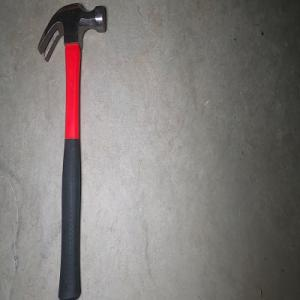Hammer: (36, 1, 107, 300)
